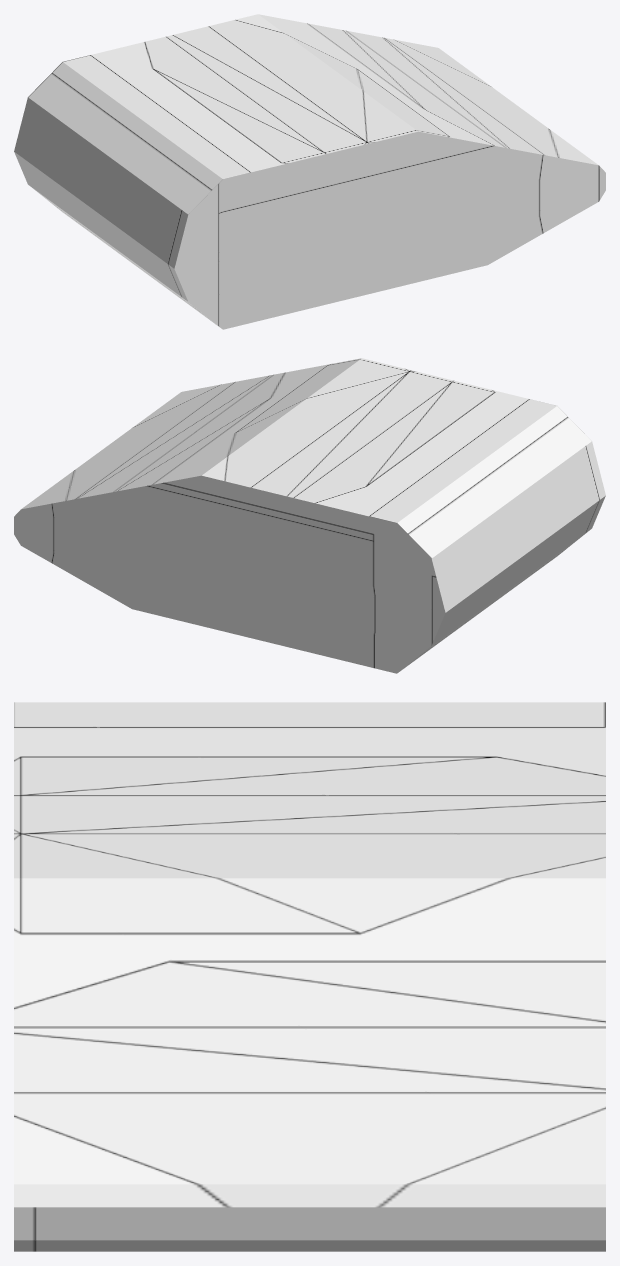
Rendered from custom_left_boot.obj.
The picture shows the model from 3 angles, top to bottom: view 1: azimuth 30°, elevation 25°; view 2: azimuth 150°, elevation 25°; view 3: azimuth 270°, elevation 25°; orthographic projection. The views are drawn at different scales.
Visible parts, largest first — view 1: Cube_Cube.001; view 2: Cube_Cube.001; view 3: Cube_Cube.001.
Part boxes in pixels (x1,y1,x2,y2): Cube_Cube.001: [14, 14, 605, 329]; Cube_Cube.001: [14, 358, 605, 673]; Cube_Cube.001: [14, 702, 605, 1251].
Size of the model in its own units: 6.21 by 2.07 by 4.
